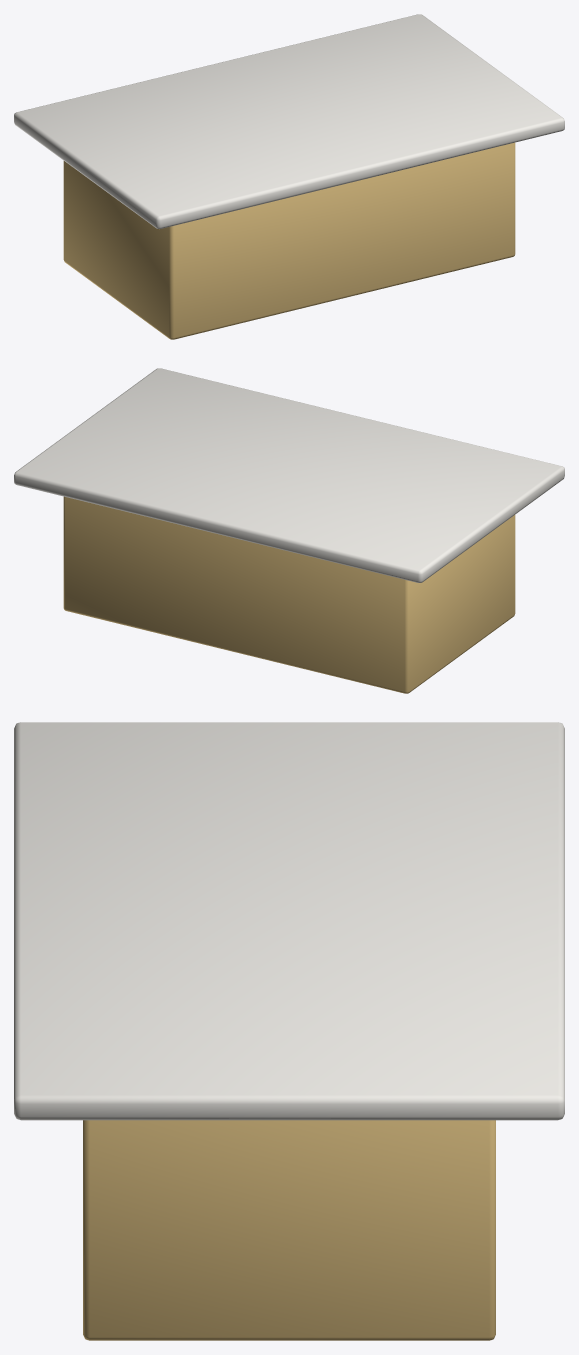
File: fur_coffee_marble.glb
3 renders of one model, top to bottom at view 1: azimuth 30°, elevation 25°; view 2: azimuth 150°, elevation 25°; view 3: azimuth 270°, elevation 25°, orthographic. The views are drawn at different scales.
Visible parts, largest first — view 1: FUR_coffee_marble; view 2: FUR_coffee_marble; view 3: FUR_coffee_marble.
Part boxes in pixels (x1,y1,x2,y2): FUR_coffee_marble: (14,14,564,339); FUR_coffee_marble: (14,368,564,693); FUR_coffee_marble: (14,722,564,1340).
Size of the model in its own units: 1.3 by 0.44 by 0.8.
